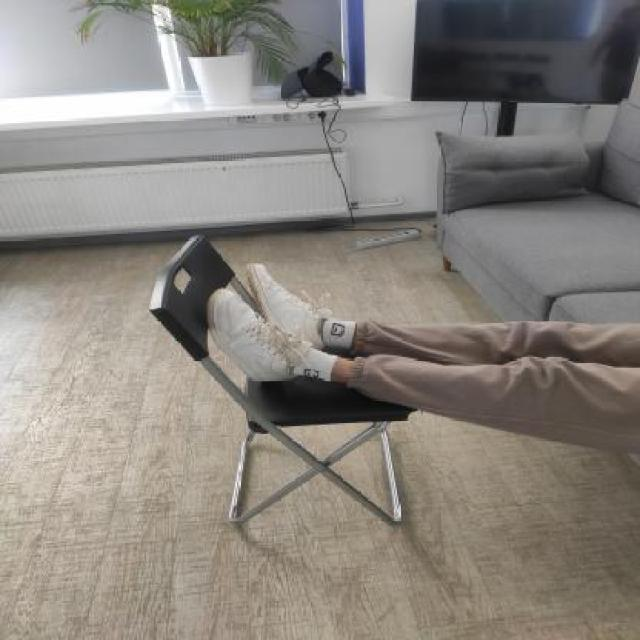chair: (142, 219, 440, 536)
